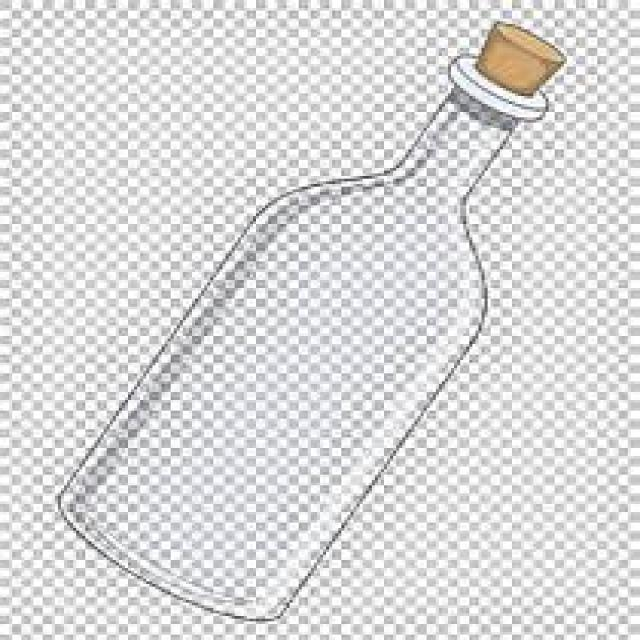Glass-Non-Biodegradable but Recyclable-: (52, 65, 549, 626)
